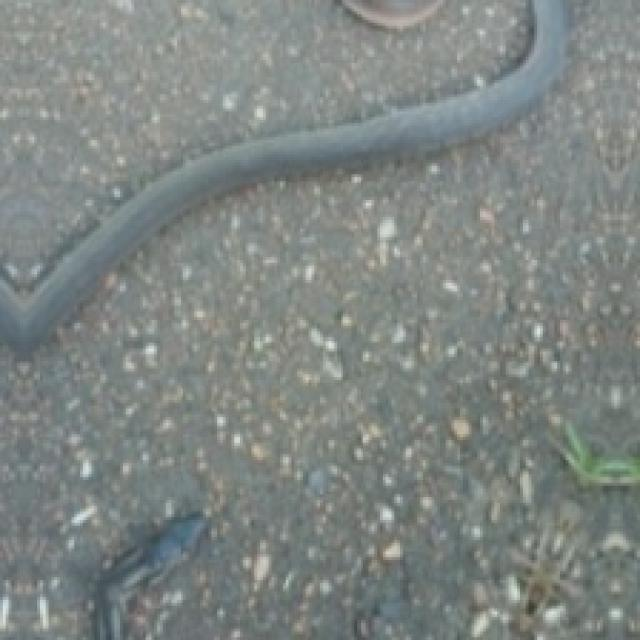reddish rat snake: (0, 0, 566, 349), (0, 0, 566, 346), (96, 515, 209, 639), (342, 1, 445, 28)
